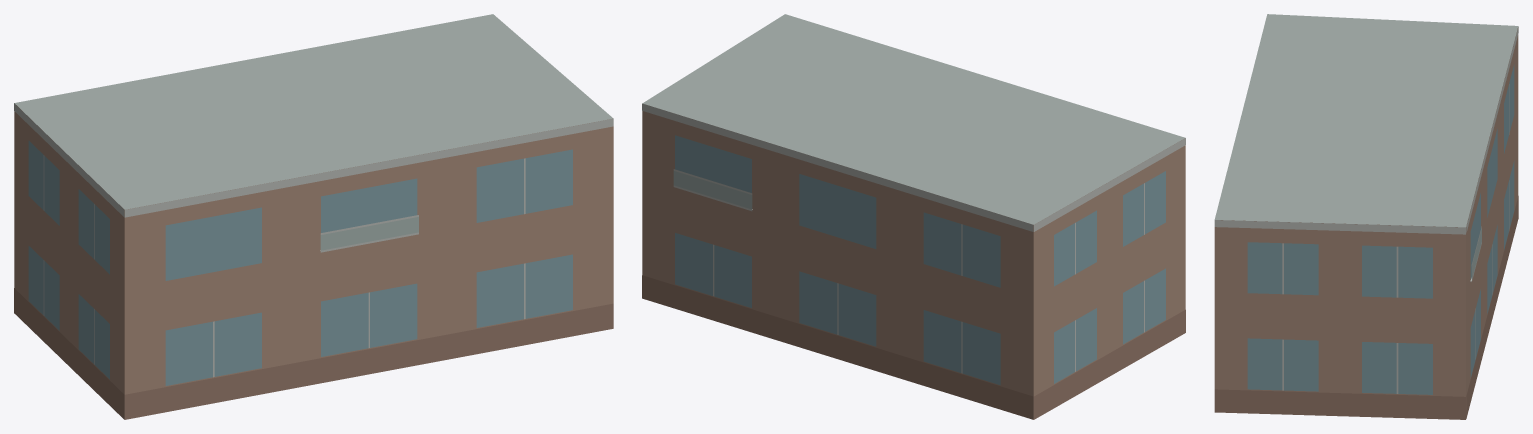
Rendered from survey-upis-32806962.glb.
3 renders of one model, left to right at view 1: azimuth 30°, elevation 25°; view 2: azimuth 150°, elevation 25°; view 3: azimuth 270°, elevation 25°, orthographic. The views are drawn at different scales.
Visible parts, largest first — view 1: survey-upis-32806962.tmp; view 2: survey-upis-32806962.tmp; view 3: survey-upis-32806962.tmp.
Part boxes in pixels (x1,y1,x2,y2): survey-upis-32806962.tmp: [14, 14, 613, 419]; survey-upis-32806962.tmp: [642, 14, 1185, 419]; survey-upis-32806962.tmp: [1214, 14, 1518, 419].
Size of the model in its own units: 15.46 by 6.5 by 9.31.
